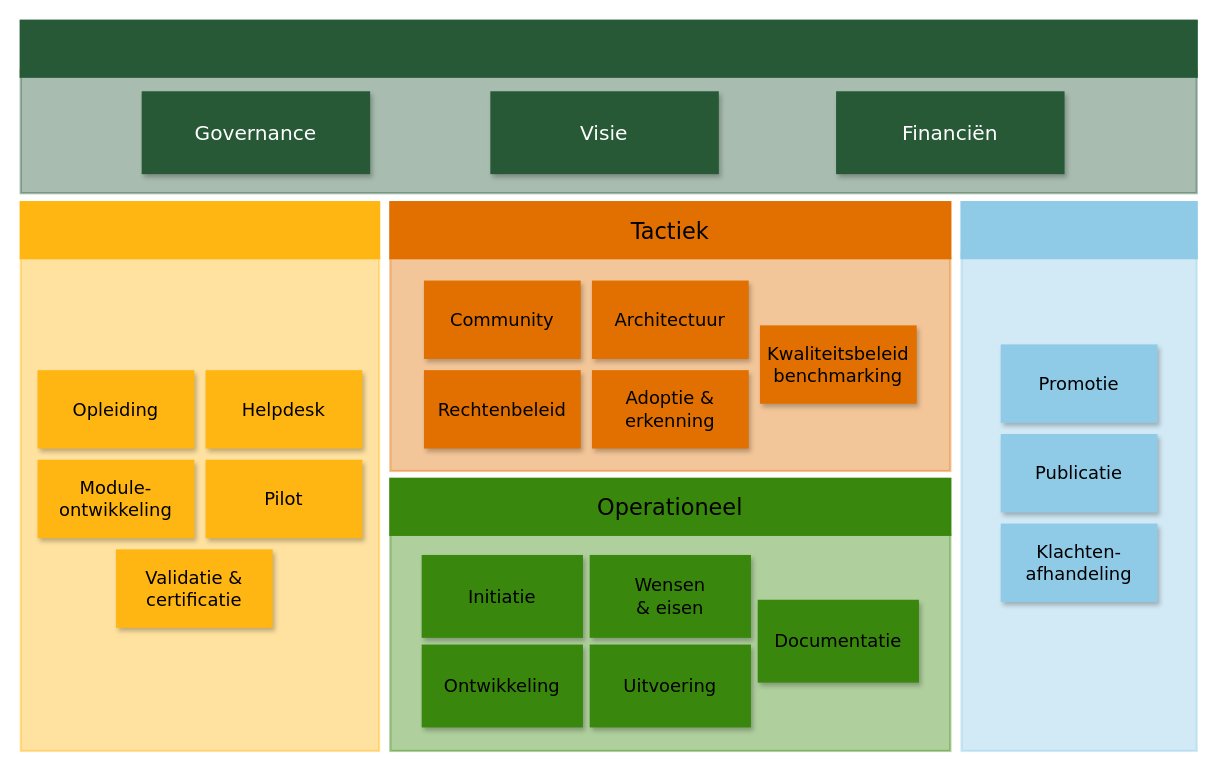
Image size: 1216x771. Some labels were removed from this diagram. The shapes that lost their labels are listed below. From the top down, each one's centre as x and y in pixels, then its label:
pixel 608 48: Strategie
pixel 199 229: Implementatie ondersteuning
pixel 1078 229: Communicatie
